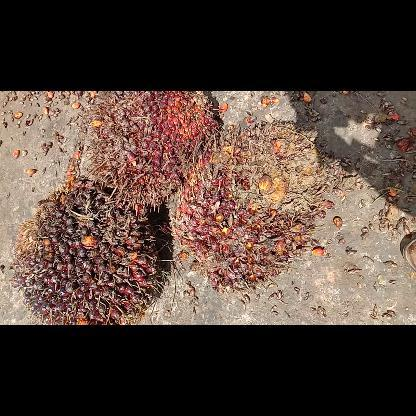Kurang masak: (172, 121, 324, 290)
TBS masak: (13, 191, 165, 324), (84, 93, 223, 211)
